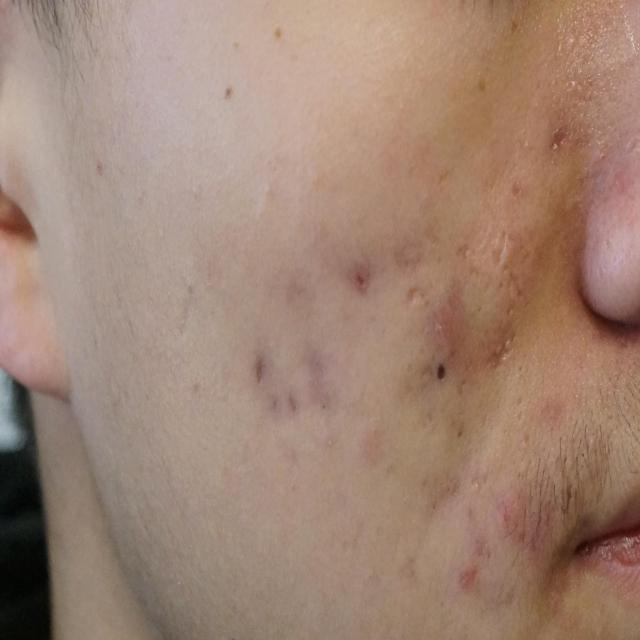blackhead: (437, 364, 445, 381), (226, 88, 231, 96), (458, 431, 463, 439), (433, 504, 436, 510), (322, 406, 326, 410), (274, 401, 277, 406), (478, 308, 481, 312), (520, 368, 522, 371), (507, 310, 509, 313)
